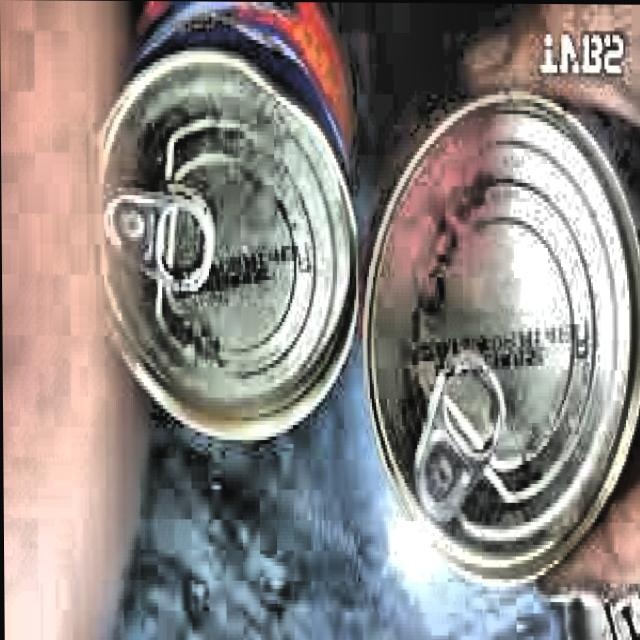can: (356, 81, 640, 591), (83, 0, 363, 459)
